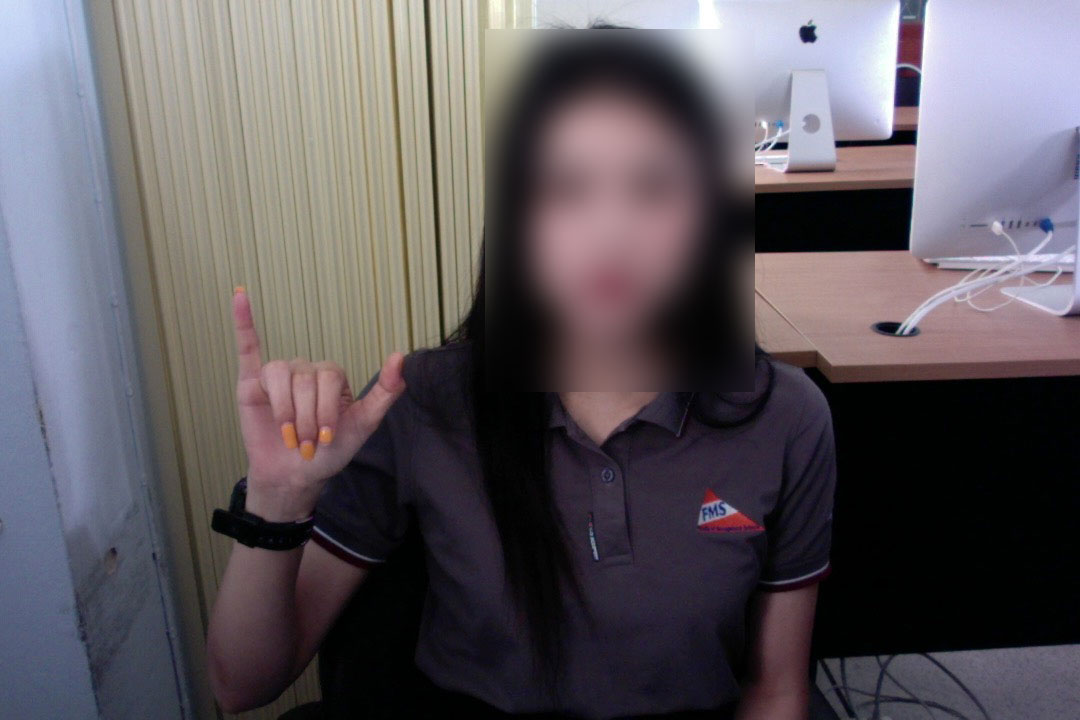yor: (227, 279, 412, 502)
